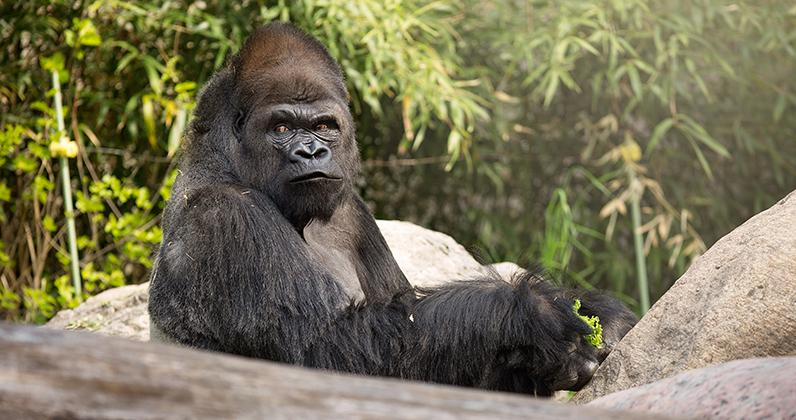Gorilla: (164, 30, 383, 365)
